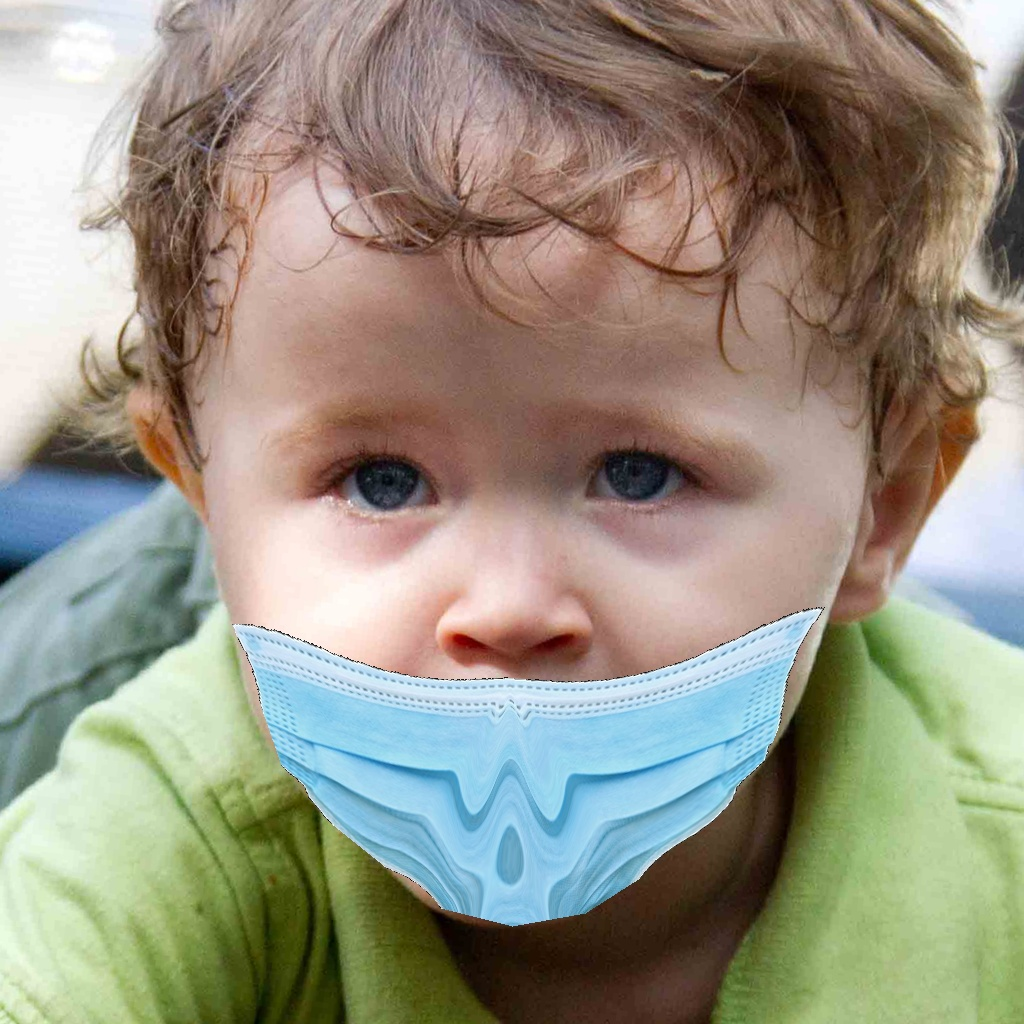mask_weared_incorrect: (199, 341, 889, 944)
